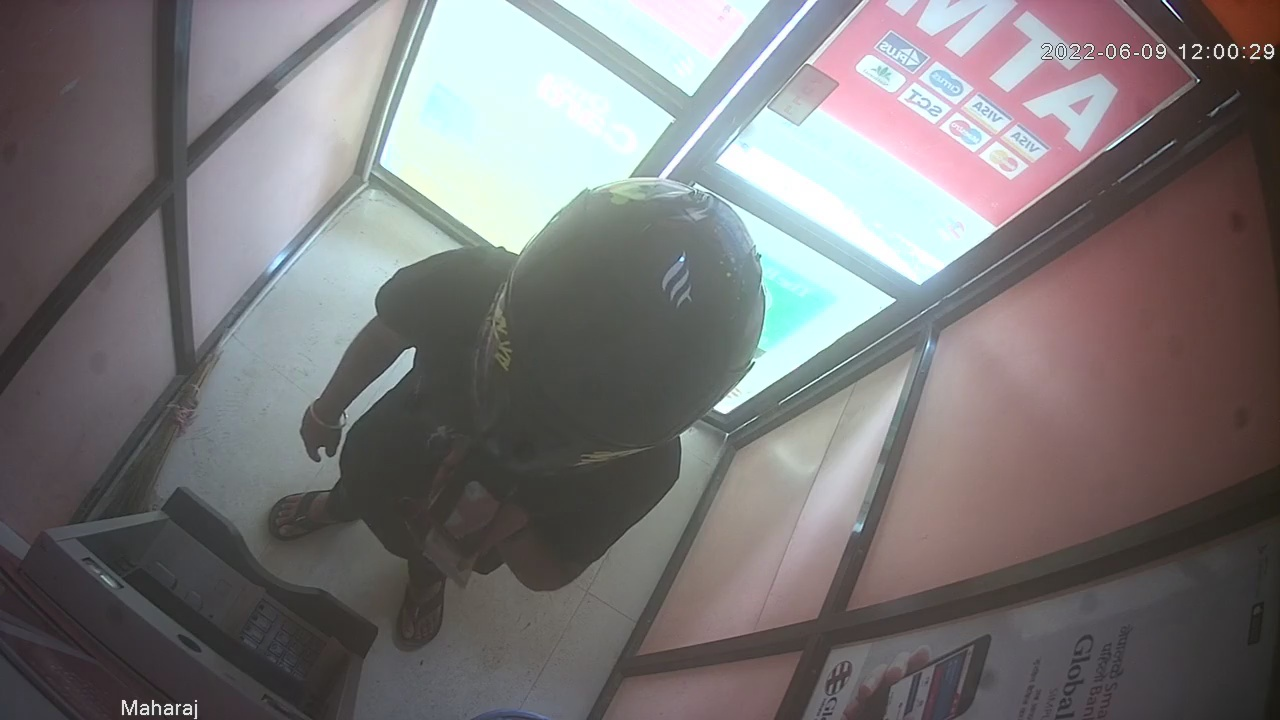helmet: (465, 174, 763, 482)
person: (270, 175, 765, 651)
